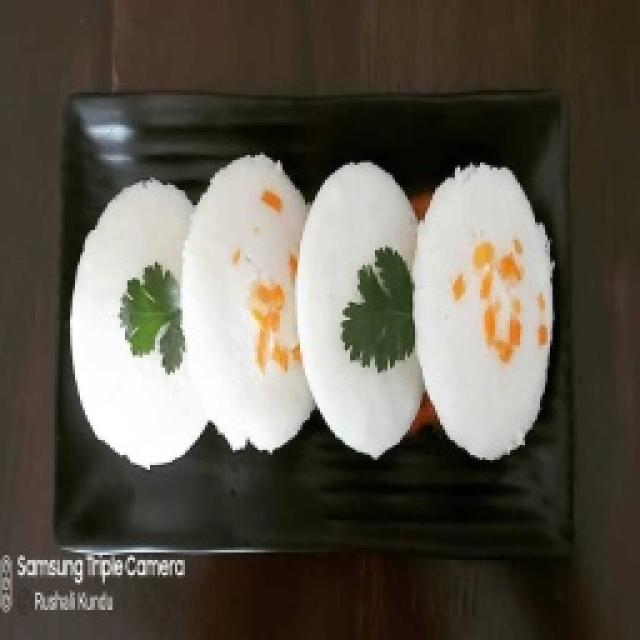idli: (62, 174, 539, 479)
